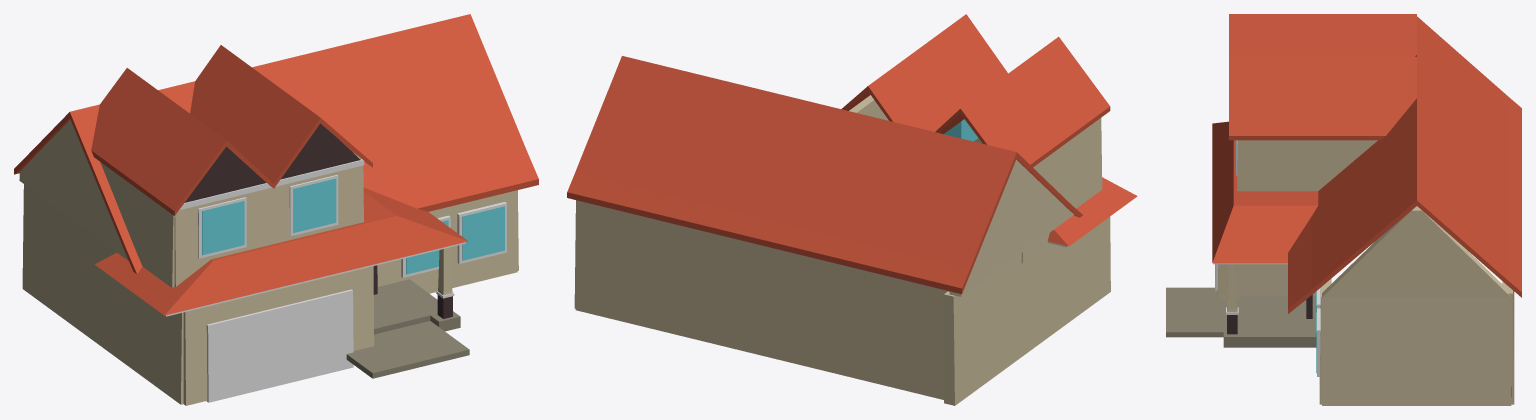
File: house lod.glb
3 renders of one model, left to right at view 1: azimuth 30°, elevation 25°; view 2: azimuth 150°, elevation 25°; view 3: azimuth 270°, elevation 25°, orthographic. The views are drawn at different scales.
Visible parts, largest first — view 1: Cube.1384; view 2: Cube.1384; view 3: Cube.1384.
Part boxes in pixels (x1=…): Cube.1384: x1=14, y1=14, x2=538, y2=405; Cube.1384: x1=567, y1=14, x2=1137, y2=405; Cube.1384: x1=1166, y1=14, x2=1521, y2=405.
Size of the model in its own units: 23.55 by 13.59 by 18.57.
